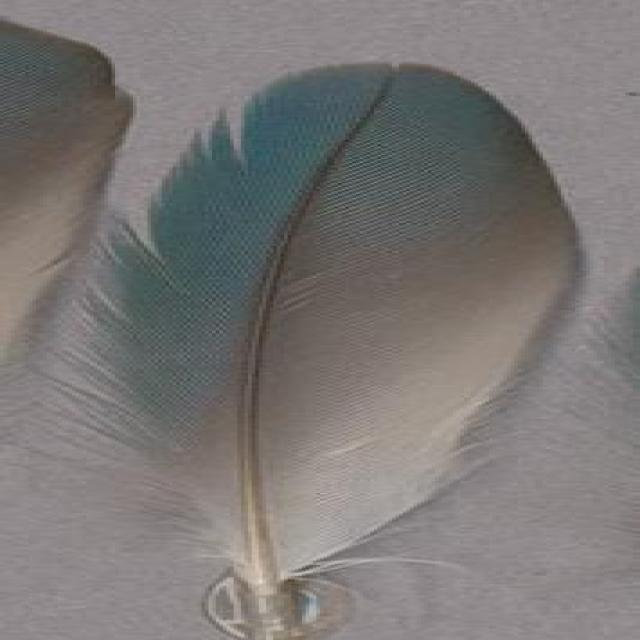feather: (28, 59, 583, 640)
